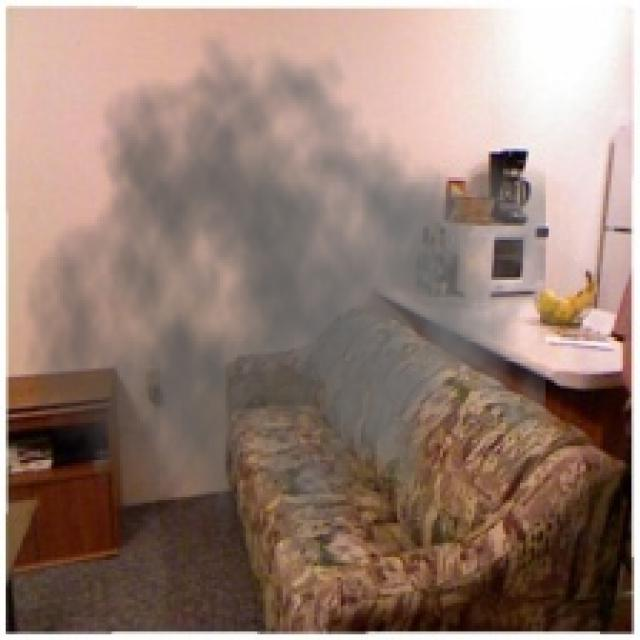smoke: (23, 29, 546, 588)
